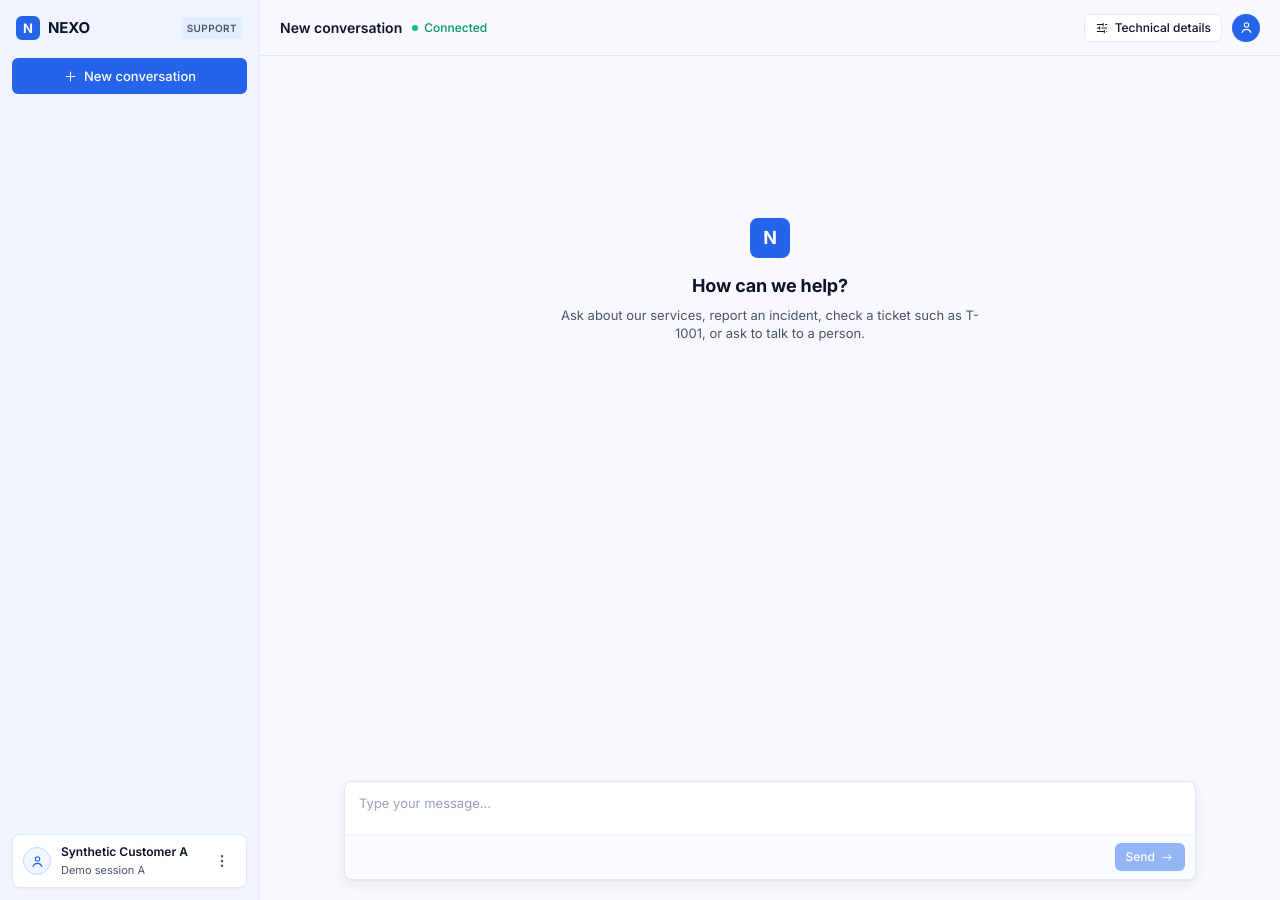
Test: UI-01 evaluation client › renders web sources as plain-text domains (never links) and shows them in technical details
Type "¿Hay fiesta hoy en Fuengirola?" into the text box labelled "message" at coordinates (770, 808), box 345,782 -> 1195,834
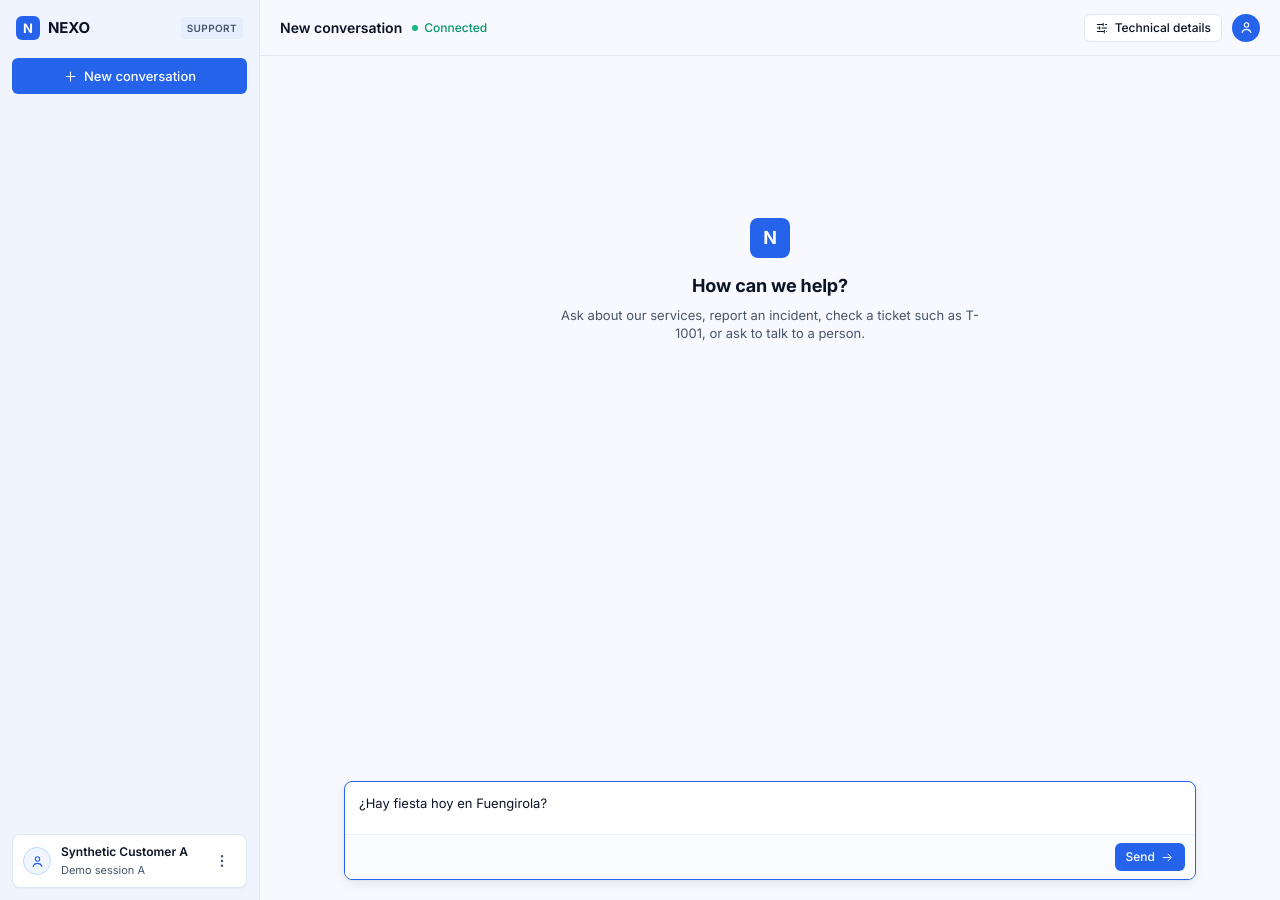
Click the button "Send" at coordinates (1150, 857), box 1115,843 -> 1185,871
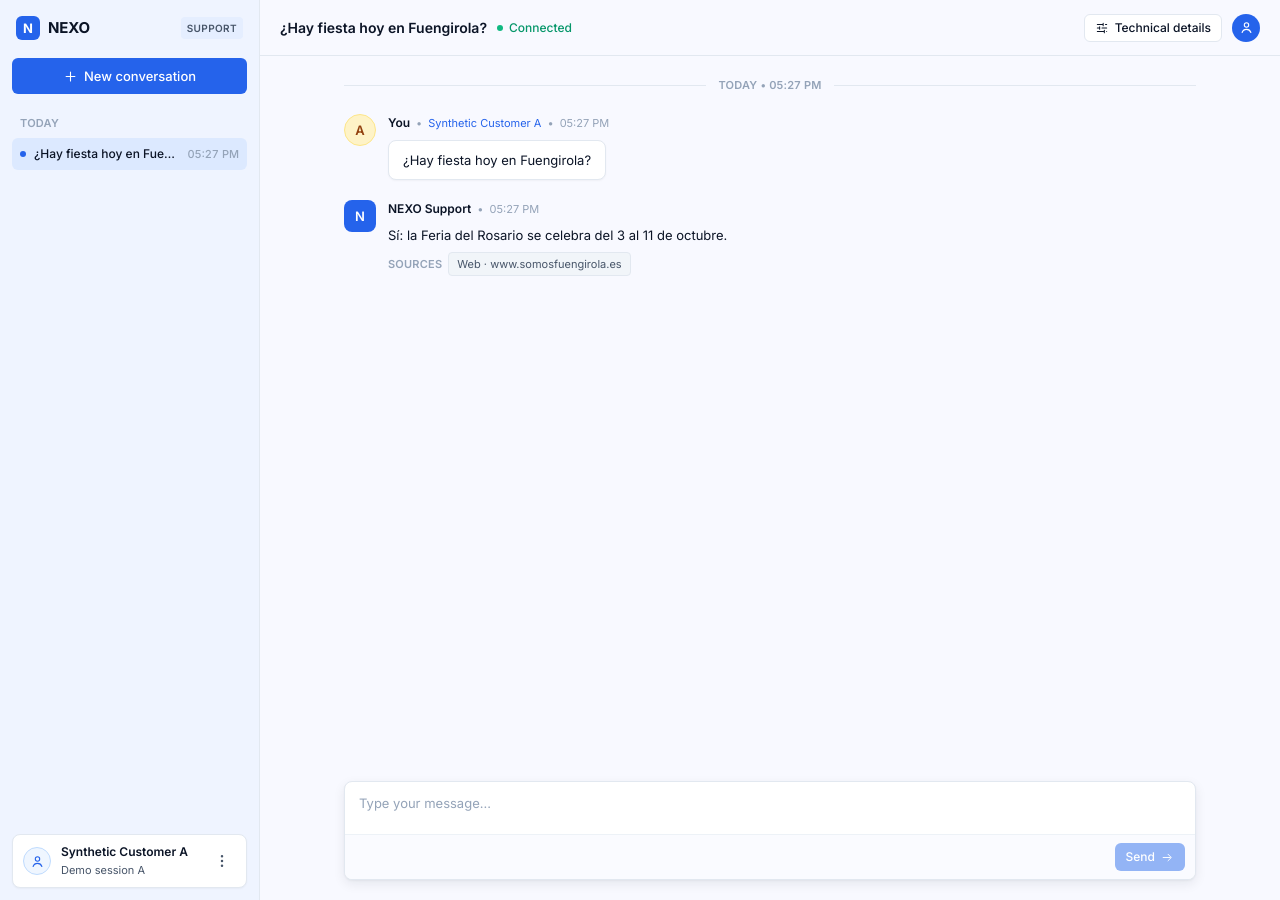
Check: the text "Sí: la Feria del Rosario se celebra del 3 al 11 de octubre." is shown, box 388,227 -> 727,243
Check: the text "Web · www.somosfuengirola.es" is shown, box 448,252 -> 631,276
Click the button "Technical details" at coordinates (1153, 28), box 1084,14 -> 1222,42
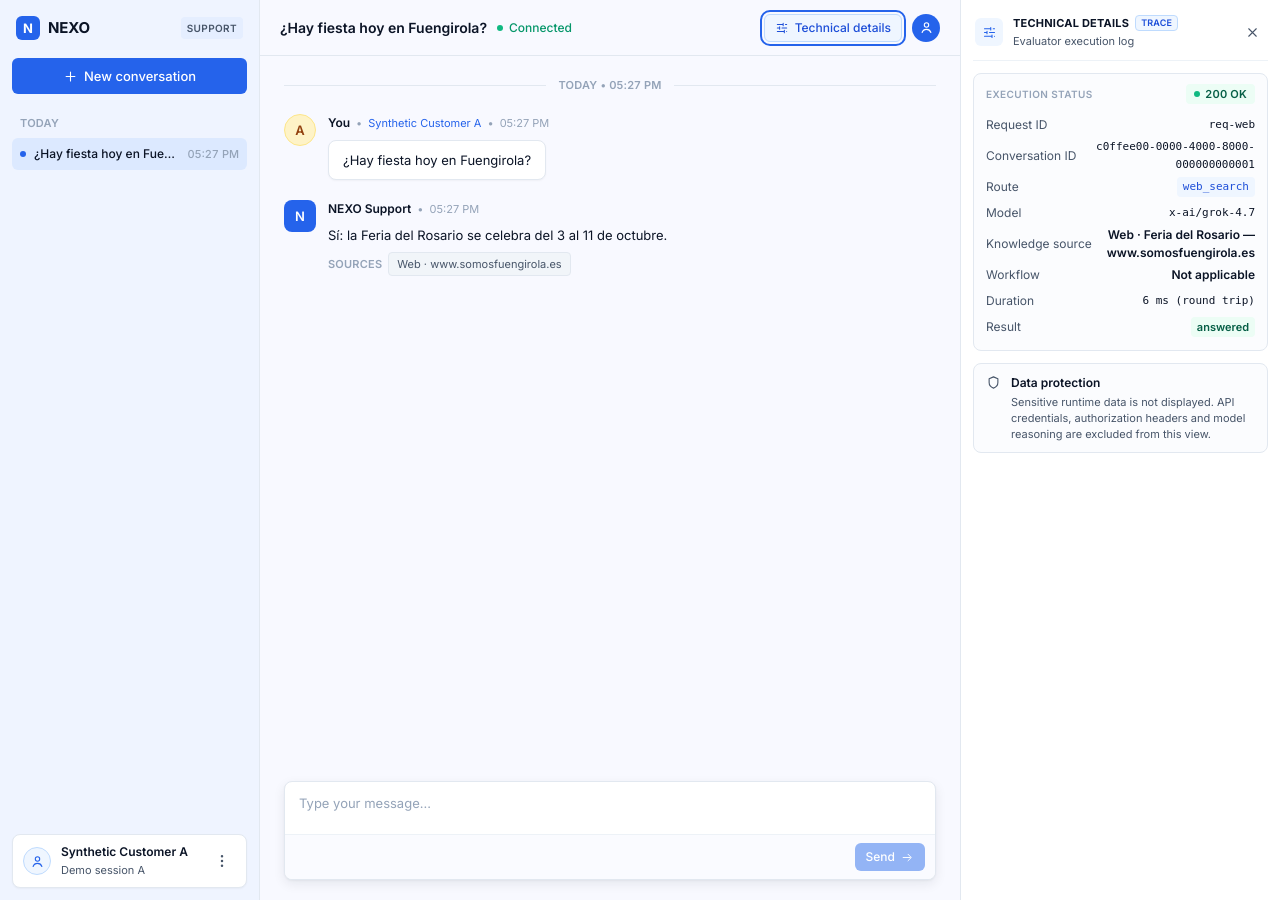
Check: the text "web_search" is shown, box 1177,177 -> 1255,197
Check: the text "Web · Feria del Rosario — www.somosfuengirola.es" is shown, box 1102,226 -> 1255,262
